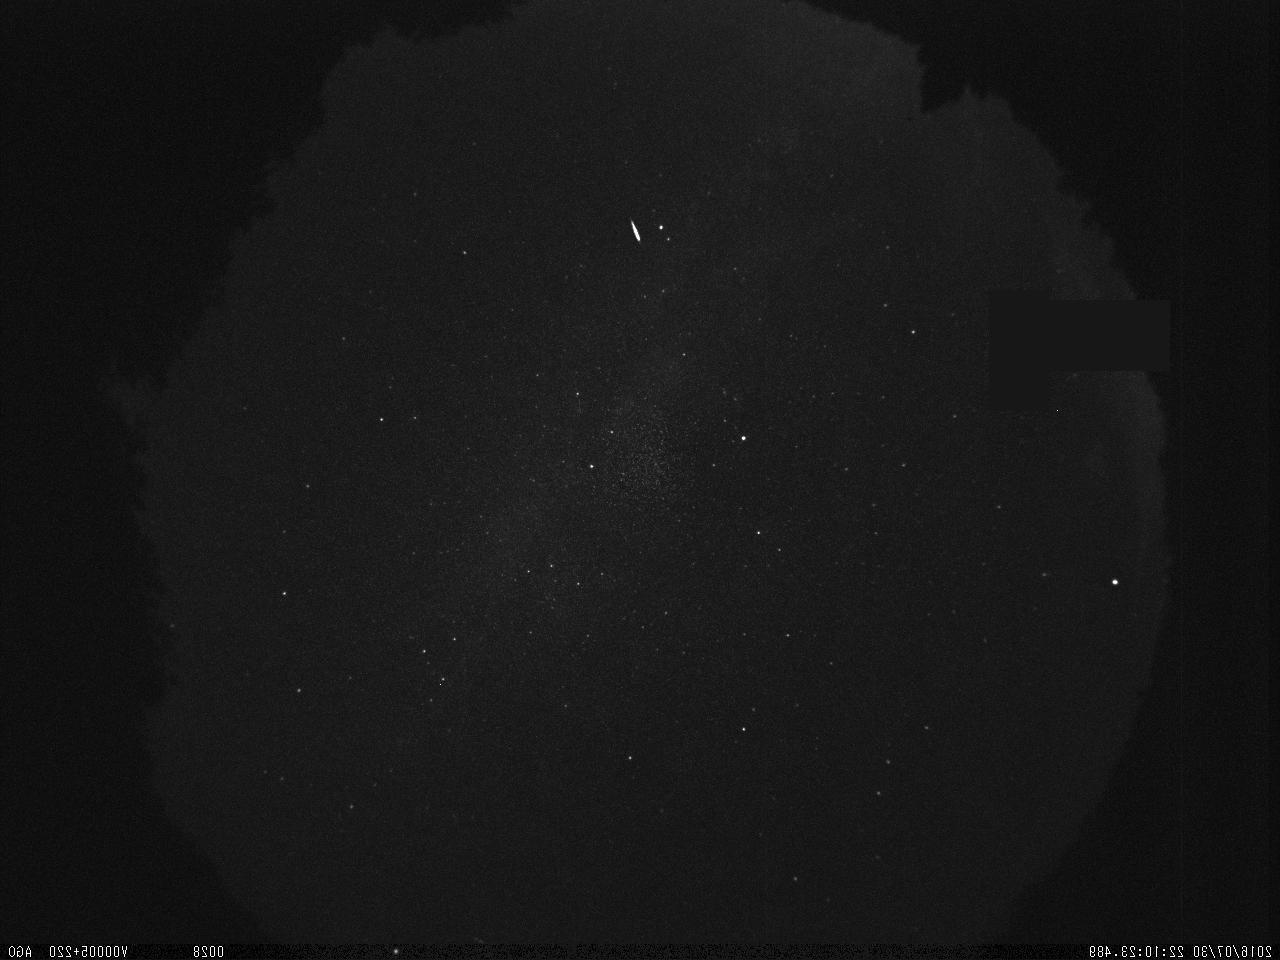meteor: (622, 212, 648, 244)
